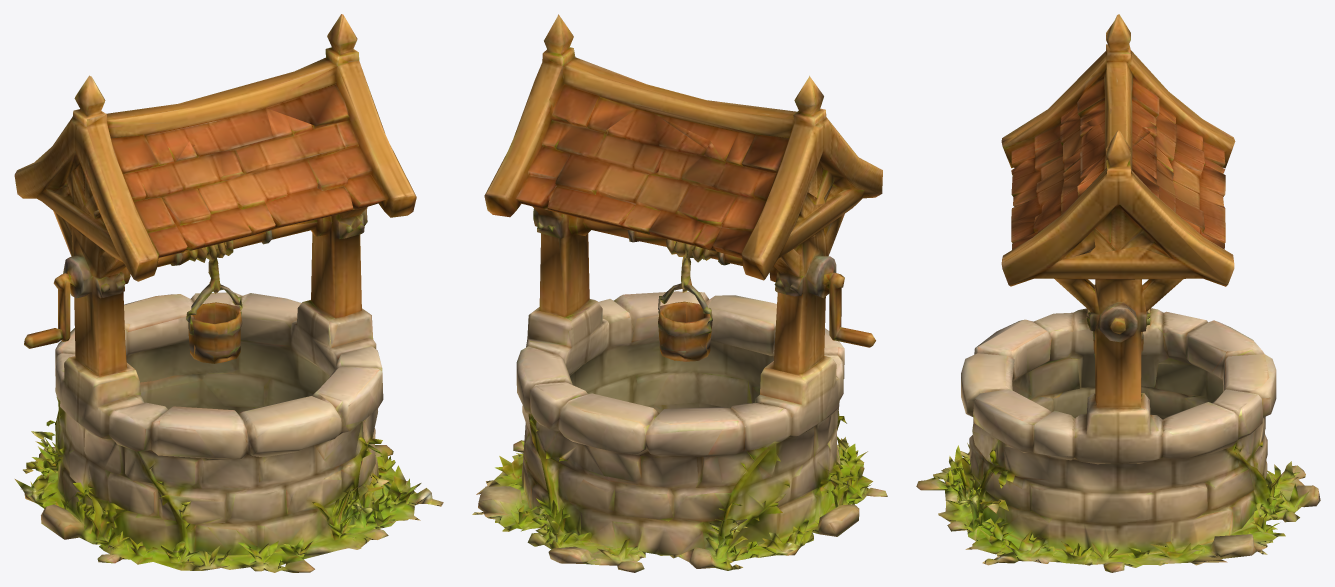
Rendered from well.glb.
The picture shows the model from 3 angles, left to right: view 1: azimuth 30°, elevation 25°; view 2: azimuth 150°, elevation 25°; view 3: azimuth 270°, elevation 25°; orthographic projection. The views are drawn at different scales.
Visible parts, largest first — view 1: Mesh1.0; view 2: Mesh1.0; view 3: Mesh1.0.
Boxes of the visible parts, x1,y1,x2,y2 form: Mesh1.0: (14, 14, 443, 572); Mesh1.0: (472, 14, 887, 572); Mesh1.0: (916, 14, 1320, 572).
Bounding box in the file's own units: 1.63 × 1.9 × 1.65.
1 material, 1 textured.
